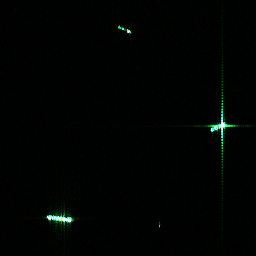ship: (45, 212, 75, 226), (207, 120, 229, 134), (115, 23, 133, 35)
